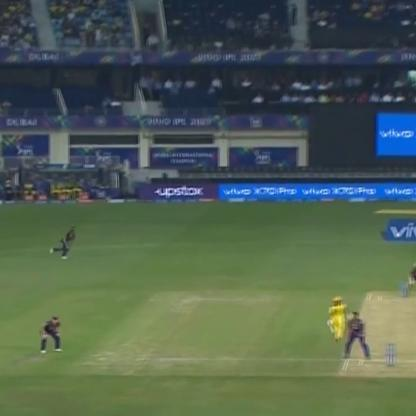pitch: (346, 294, 413, 374)
